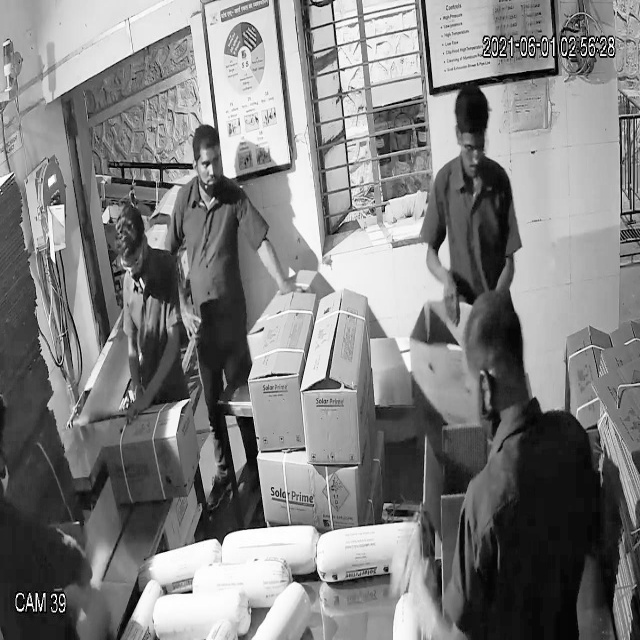Gafas: (110, 239, 154, 282)
